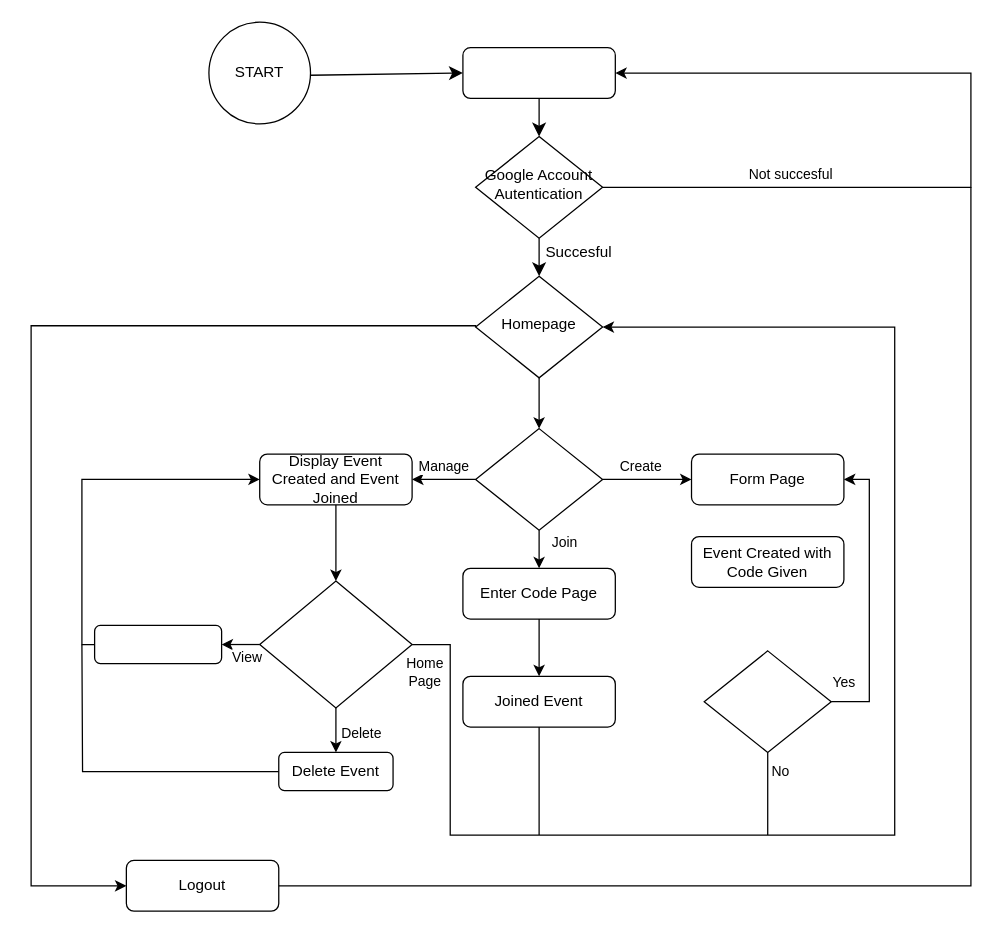
This 1003x933 diagram has some shape labels left out. The shapes that lost their labels are listed below. From the top down, each one's centre as x and y in pixels, then its label:
At point (538, 72): "Login Page".
At point (538, 478): "Create or Join or Manage Event".
At point (157, 644): "View Participant".
At point (335, 644): "Go Homepage or View Participant or Delete Event".
At point (767, 701): "Create Event again?".
